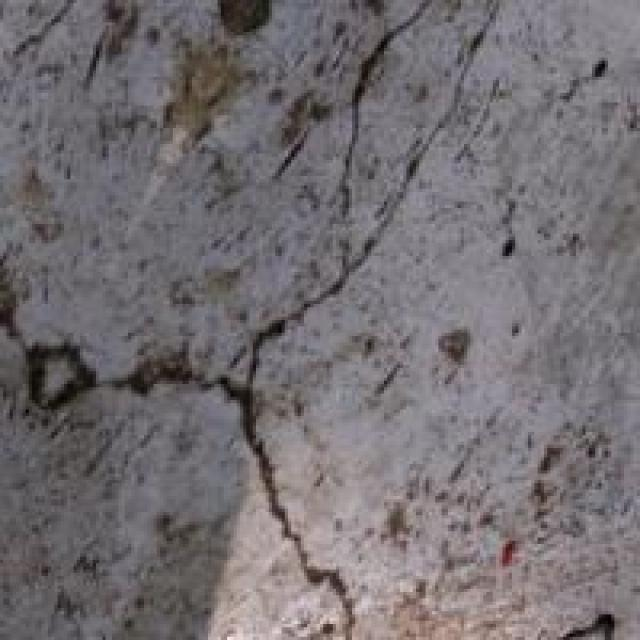crack: (77, 0, 566, 637)
